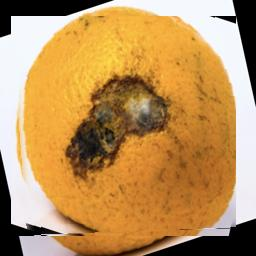Orange Rotten: (12, 17, 237, 237)
